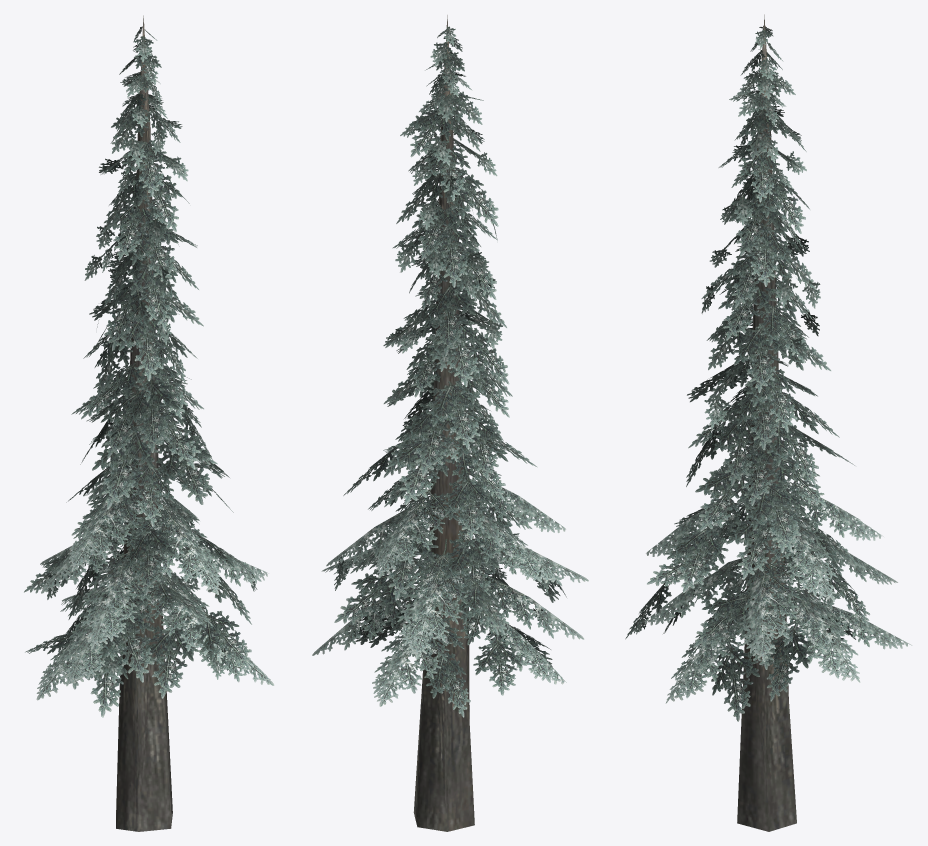
3 renders of one model, left to right at view 1: azimuth 30°, elevation 25°; view 2: azimuth 150°, elevation 25°; view 3: azimuth 270°, elevation 25°, orthographic.
Visible parts, largest first — view 1: tree; view 2: tree; view 3: tree.
Part boxes in pixels (x1=…): tree: x1=24, y1=15, x2=274, y2=831; tree: x1=312, y1=15, x2=588, y2=831; tree: x1=625, y1=14, x2=912, y2=831.
Bounding box in the file's own units: 0.2843 × 0.9037 × 0.3018.
3 materials, 2 textured.
